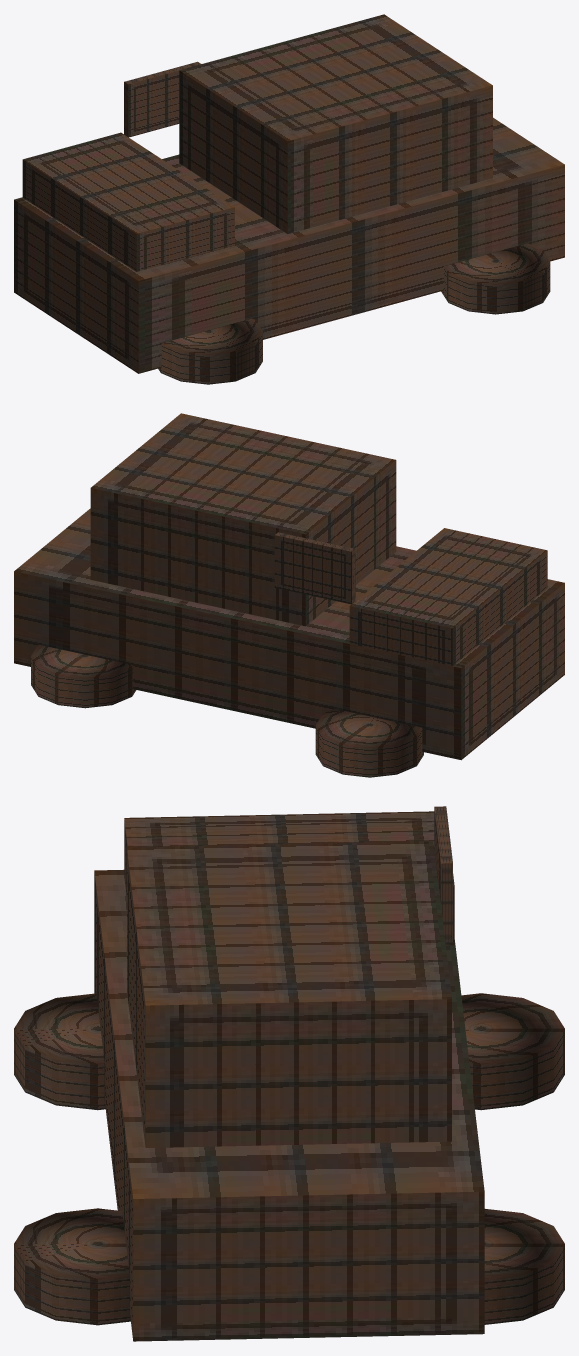
The model's file is wrecked-pickup-v1.glb.
3 views of the same model, one above another, from view 1: azimuth 30°, elevation 25°; view 2: azimuth 150°, elevation 25°; view 3: azimuth 270°, elevation 25° (orthographic). The views are drawn at different scales.
Parts seen in each view (by area): view 1: wrecked-pickup-mesh; view 2: wrecked-pickup-mesh; view 3: wrecked-pickup-mesh.
Boxes of the visible parts, x1,y1,x2,y2 form: wrecked-pickup-mesh: (14, 14, 564, 384); wrecked-pickup-mesh: (14, 413, 564, 777); wrecked-pickup-mesh: (14, 806, 564, 1341).
Bounding box in the file's own units: 5.31 × 2.17 × 3.68.
Materials: 1 (1 with a texture image).
